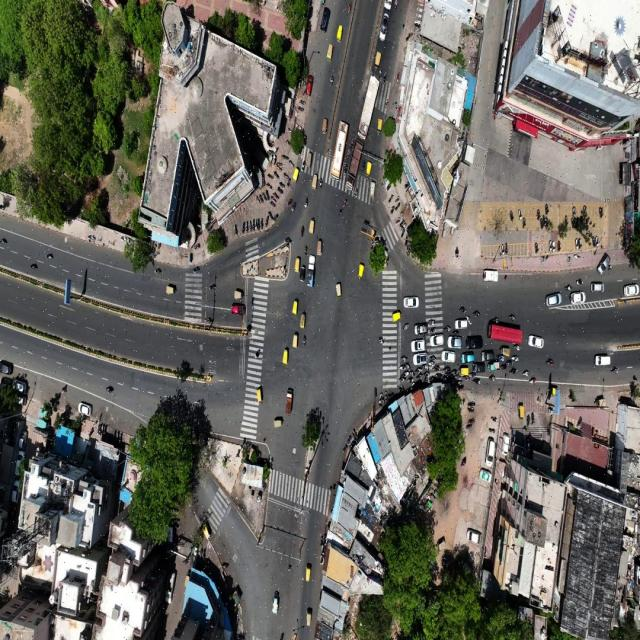3W: (267, 584, 282, 614), (253, 382, 266, 410), (334, 19, 346, 46), (162, 282, 178, 300), (371, 48, 382, 73), (271, 410, 284, 431), (319, 111, 329, 138), (202, 518, 212, 544), (367, 178, 377, 204), (333, 279, 344, 301), (303, 562, 314, 584), (357, 259, 366, 285), (324, 42, 334, 64), (290, 328, 300, 349), (280, 346, 289, 369), (292, 166, 301, 188), (391, 307, 402, 325), (306, 604, 313, 630), (376, 117, 385, 137), (366, 158, 374, 180), (299, 311, 308, 329), (316, 238, 324, 258), (518, 402, 526, 422), (292, 297, 300, 316), (295, 252, 301, 277), (488, 361, 500, 373), (309, 216, 316, 236), (312, 172, 319, 192), (498, 346, 512, 356), (306, 151, 314, 167), (300, 263, 306, 282)
Bus: (331, 115, 349, 185), (487, 322, 525, 344)
Cars: (375, 8, 392, 46), (302, 67, 317, 97), (75, 399, 96, 420), (483, 437, 497, 467), (466, 525, 482, 551), (401, 292, 421, 312), (13, 448, 26, 477), (17, 426, 33, 449), (588, 278, 607, 297), (479, 267, 501, 283), (9, 478, 21, 507), (544, 291, 562, 310), (597, 254, 612, 276), (528, 334, 545, 352), (568, 291, 587, 307), (465, 333, 484, 349), (320, 8, 332, 33), (623, 280, 639, 298), (408, 338, 426, 353), (592, 355, 612, 368), (446, 334, 462, 350), (461, 349, 477, 364), (229, 302, 246, 316), (12, 378, 29, 392), (411, 351, 429, 364), (430, 332, 444, 348), (470, 362, 488, 374), (414, 320, 428, 335), (481, 348, 496, 361), (442, 350, 458, 362), (454, 318, 468, 330)
LCV: (284, 386, 296, 415), (307, 255, 316, 291)
M2W: (43, 245, 58, 264), (231, 286, 247, 301), (102, 380, 116, 396), (252, 346, 265, 362), (453, 244, 462, 264), (598, 203, 606, 225), (206, 280, 218, 294), (27, 258, 39, 272), (465, 393, 477, 406), (326, 73, 336, 88), (339, 198, 351, 210), (487, 424, 499, 436), (190, 263, 201, 276), (360, 157, 367, 177), (283, 231, 292, 246), (508, 206, 515, 225), (528, 374, 538, 387), (342, 162, 350, 178), (581, 202, 589, 218), (594, 232, 601, 250), (576, 274, 585, 288), (402, 319, 411, 333), (300, 221, 306, 241), (504, 239, 510, 259), (534, 237, 540, 257), (535, 202, 541, 222), (472, 307, 482, 319), (521, 366, 531, 378), (428, 324, 438, 336), (300, 331, 307, 348), (346, 0, 353, 17), (233, 221, 240, 238), (387, 188, 394, 205), (204, 313, 213, 326), (376, 334, 385, 347), (304, 193, 310, 212), (152, 266, 163, 276), (610, 366, 620, 377), (544, 357, 555, 367), (507, 311, 518, 321), (393, 213, 402, 225), (570, 202, 576, 220), (443, 321, 452, 333), (399, 352, 408, 364), (290, 202, 298, 215), (288, 157, 296, 170), (500, 242, 506, 259), (578, 236, 584, 253), (489, 414, 499, 424), (298, 97, 309, 106), (467, 405, 476, 416), (398, 371, 407, 382), (400, 229, 407, 243), (272, 190, 280, 202), (278, 178, 286, 190), (383, 71, 389, 87), (544, 200, 550, 216), (556, 239, 562, 255), (563, 282, 575, 290), (286, 195, 293, 208), (388, 207, 395, 220), (489, 316, 502, 323), (302, 157, 307, 175), (280, 151, 289, 161), (296, 105, 306, 114), (348, 138, 357, 148), (522, 214, 527, 232), (458, 304, 468, 313), (496, 353, 506, 362), (531, 411, 537, 426), (509, 366, 517, 377), (467, 416, 478, 424), (408, 368, 416, 379), (256, 192, 261, 209), (517, 207, 522, 224), (303, 244, 309, 258), (244, 221, 250, 235), (377, 68, 383, 82), (490, 374, 497, 386), (511, 353, 520, 362), (428, 319, 437, 328), (513, 343, 521, 353), (432, 366, 442, 374), (319, 177, 325, 190), (264, 215, 270, 228), (353, 186, 359, 199), (574, 237, 579, 252), (253, 218, 258, 232), (282, 171, 289, 181), (346, 146, 351, 160), (475, 377, 482, 387), (417, 363, 424, 373), (267, 171, 273, 182), (548, 238, 552, 254), (394, 193, 401, 202), (395, 202, 401, 212), (527, 414, 531, 429), (467, 315, 472, 326), (263, 190, 267, 202)
Truck: (353, 70, 380, 142)
